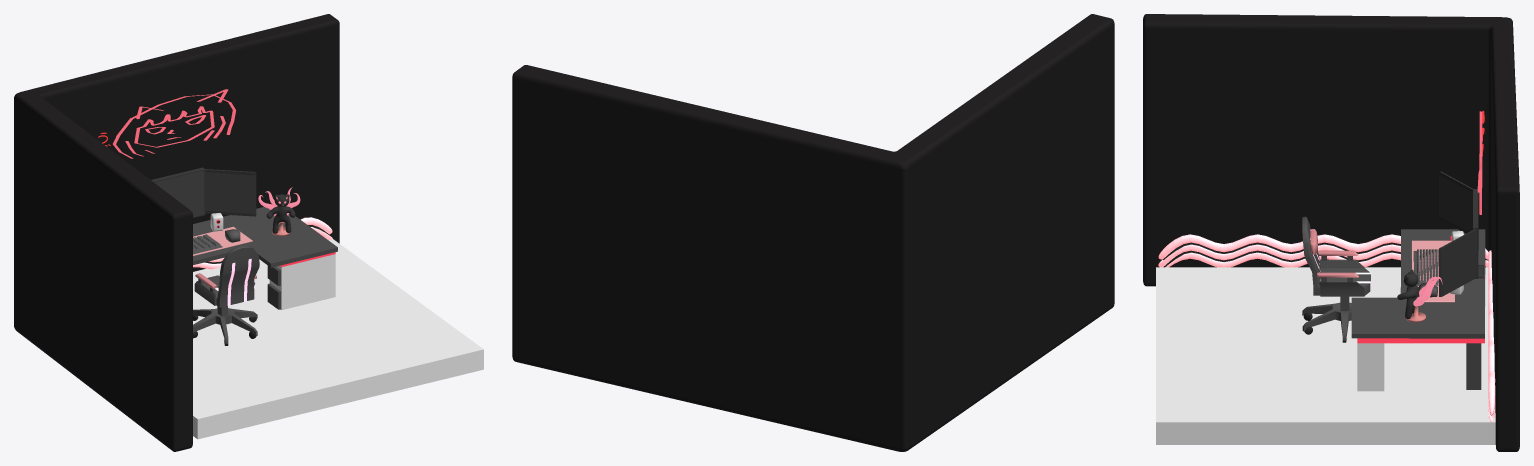
Rendered from room.gltf.
3 renders of one model, left to right at view 1: azimuth 30°, elevation 25°; view 2: azimuth 150°, elevation 25°; view 3: azimuth 270°, elevation 25°, orthographic. The views are drawn at different scales.
Parts seen in each view (by area): view 1: wall, floor, computer table, steaming chair, moniter, girl, cat-toy, wall-decor, keyboard-pad; view 2: wall; view 3: wall, floor, computer table, wall-decor, steaming chair, moniter, keybroad, keyboard-pad, cat-toy, girl.
Boxes of the visible parts, <box> form: wall: <box>14,14,339,451</box>; floor: <box>193,239,483,439</box>; computer table: <box>193,207,337,309</box>; steaming chair: <box>193,246,259,345</box>; moniter: <box>151,167,256,217</box>; girl: <box>113,89,235,158</box>; cat-toy: <box>266,194,295,233</box>; wall-decor: <box>193,217,332,417</box>; keyboard-pad: <box>193,226,252,255</box>; wall: <box>512,14,1114,451</box>; wall: <box>1143,14,1519,451</box>; floor: <box>1156,267,1495,444</box>; computer table: <box>1351,229,1485,391</box>; wall-decor: <box>1158,234,1495,422</box>; steaming chair: <box>1302,216,1370,342</box>; moniter: <box>1439,171,1483,296</box>; keybroad: <box>1413,249,1438,285</box>; keyboard-pad: <box>1411,240,1454,302</box>; cat-toy: <box>1397,269,1420,318</box>; girl: <box>1477,111,1482,214</box>.
Size of the model in its own units: 15.8 by 11 by 14.23.
